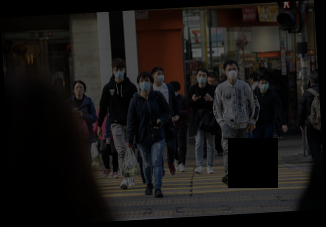with_mask: (226, 66, 239, 80), (139, 77, 152, 91), (113, 66, 126, 79), (154, 70, 166, 84), (196, 72, 207, 85), (260, 80, 270, 92)
without_mask: (74, 84, 85, 96), (207, 78, 218, 86)
